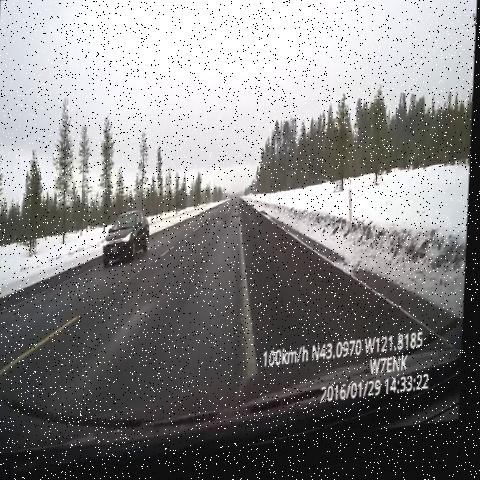pothole: (228, 217, 245, 234), (234, 205, 245, 218)
